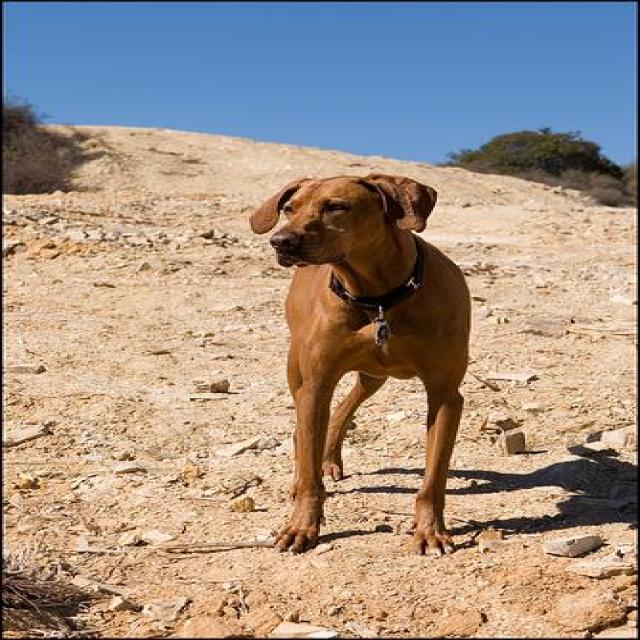rhodesian_ridgeback: (243, 168, 489, 560)
